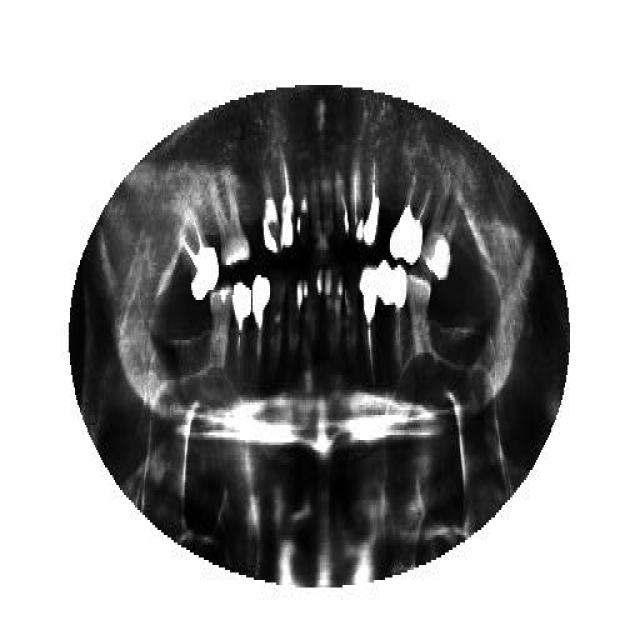Fillings: (421, 188, 461, 282), (392, 263, 408, 375), (262, 163, 280, 255), (376, 258, 394, 310)
Implant: (390, 175, 431, 267), (180, 212, 219, 302), (360, 265, 379, 387), (251, 272, 271, 378), (231, 280, 251, 382), (279, 150, 295, 250), (364, 158, 380, 250), (348, 163, 364, 245)
